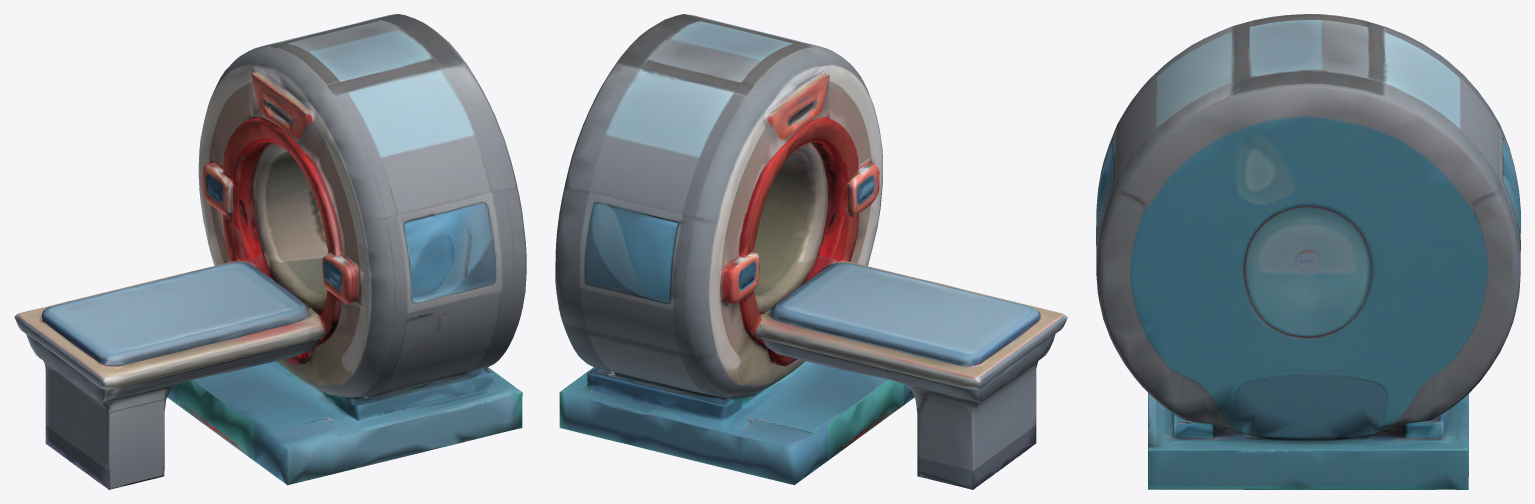
Rendered from Lutecio.fbx.
The picture shows the model from 3 angles, left to right: view 1: azimuth 30°, elevation 25°; view 2: azimuth 150°, elevation 25°; view 3: azimuth 270°, elevation 25°; orthographic projection. The views are drawn at different scales.
Parts seen in each view (by area): view 1: Mesh_0.025; view 2: Mesh_0.025; view 3: Mesh_0.025.
Boxes of the visible parts, x1=… form: Mesh_0.025: x1=14, y1=14, x2=526, y2=489; Mesh_0.025: x1=555, y1=14, x2=1067, y2=489; Mesh_0.025: x1=1096, y1=14, x2=1520, y2=489.
Bounding box in the file's own units: 83.71 × 100 × 86.07.
Materials: 1 (1 with a texture image).
